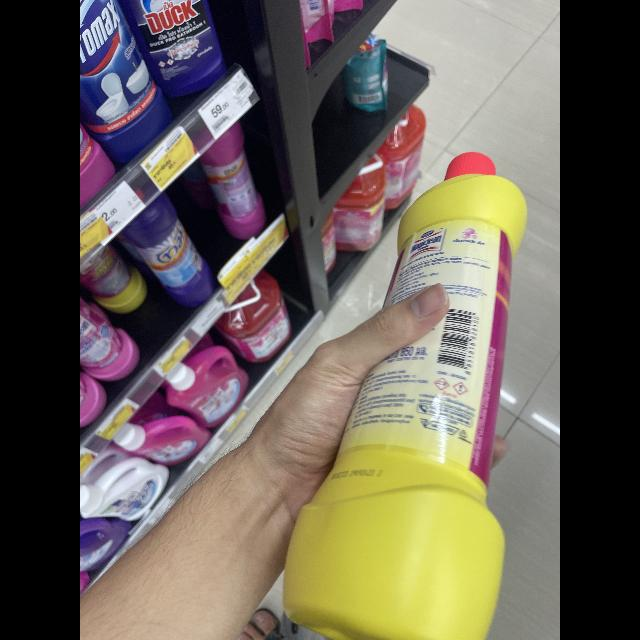chemical_plastic_bottle: (276, 144, 534, 640)
